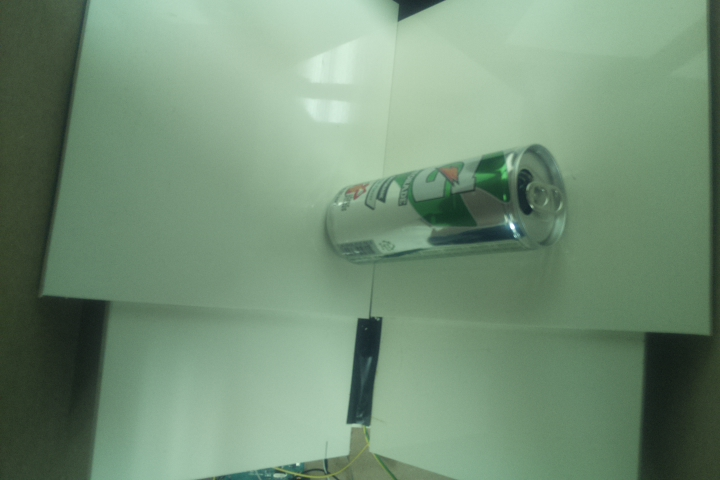can: (322, 144, 568, 269)
